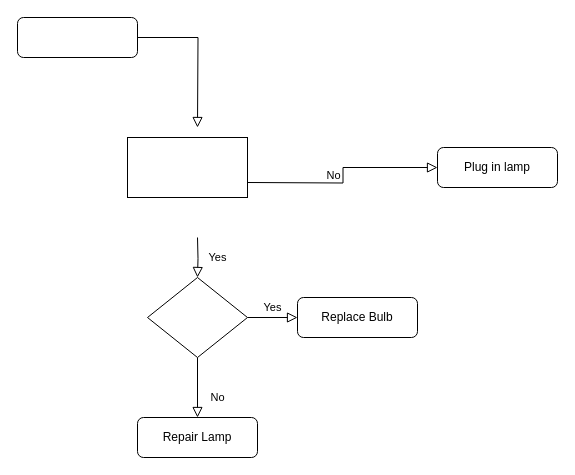
The diagram is 575 pixels wide and 475 high, and some of its shapes have lost their labels. Each missing label, with the centre of its shape:
"Bulb burned out?" goes at pixel 197 317.
"네이버 뉴스 타이틀" goes at pixel 77 37.
